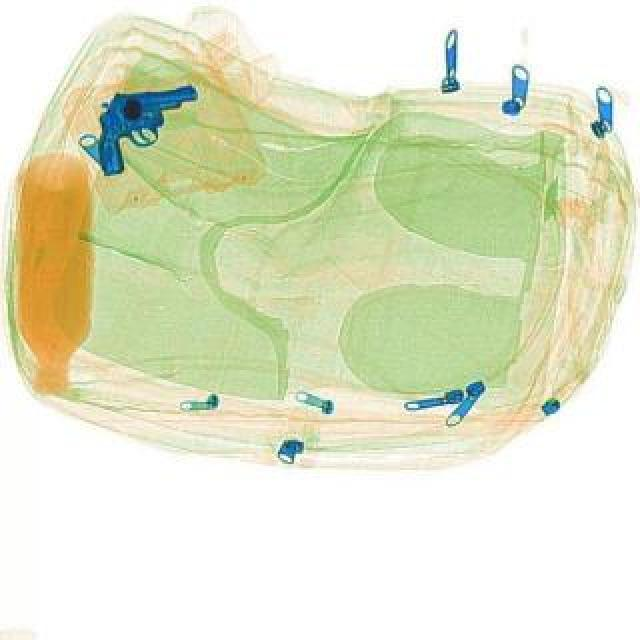gun: (88, 76, 208, 180)
